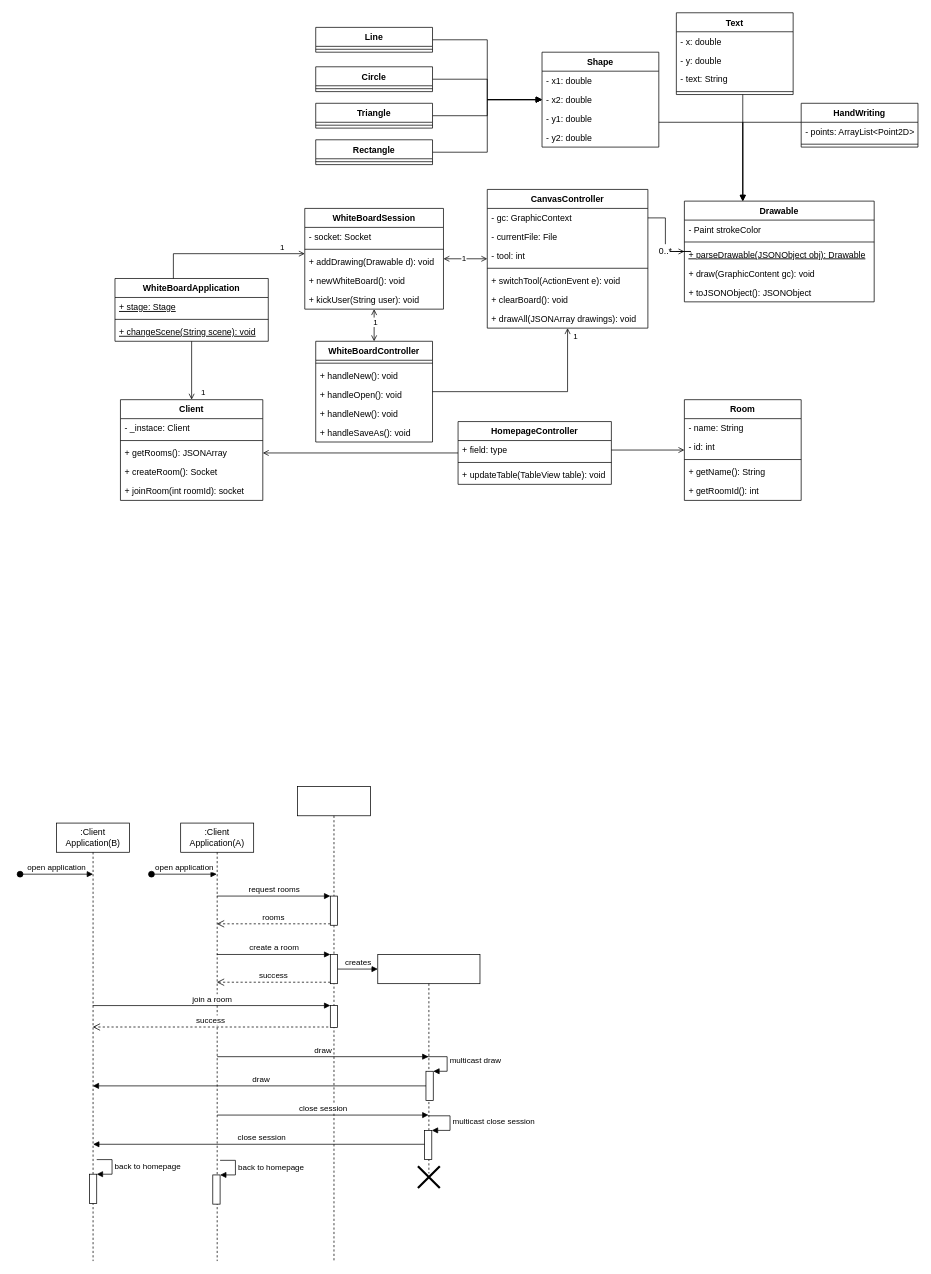
This 931x1274 diagram has some shape labels left out. Here are the shapes that lost their labels. From the top down, the centre of each, then its label:
[333,1023]: :Server
[428,1063]: :WhiteBoardSession
